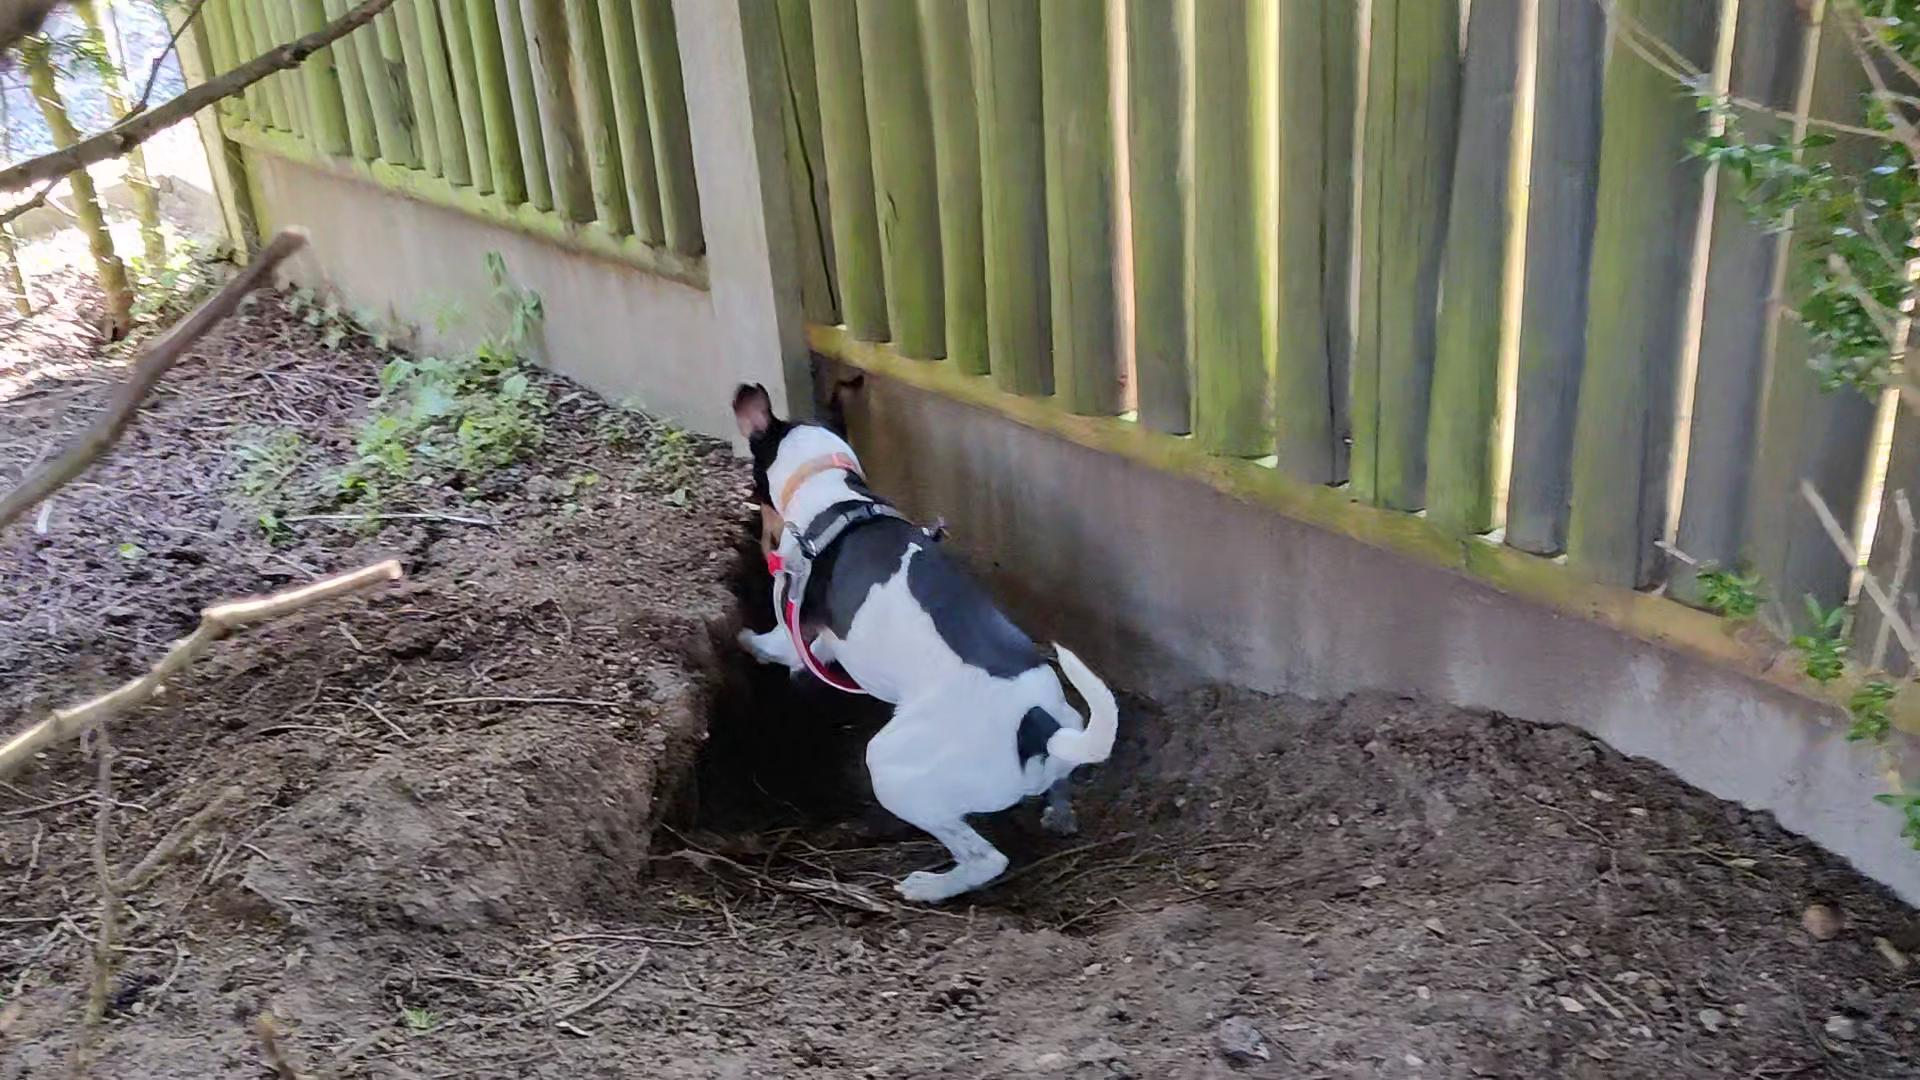Dog: (709, 339, 1131, 930)
